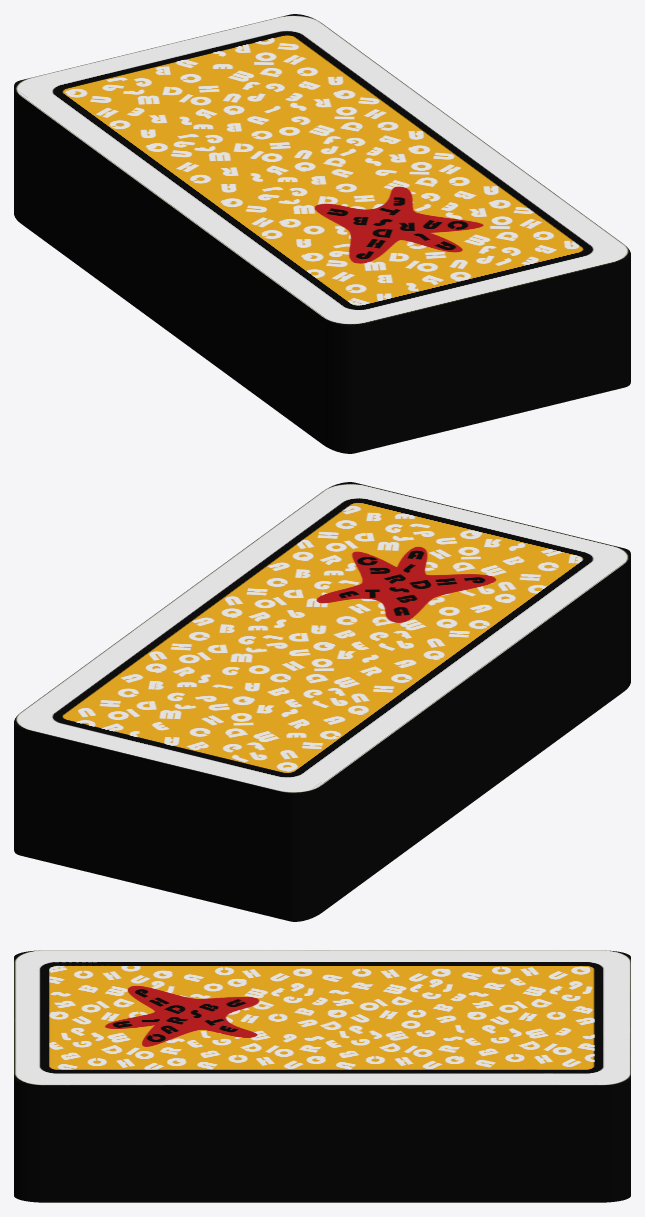
File: Carte.fbx
3 renders of one model, top to bottom at view 1: azimuth 30°, elevation 25°; view 2: azimuth 150°, elevation 25°; view 3: azimuth 270°, elevation 25°, orthographic. The views are drawn at different scales.
Visible parts, largest first — view 1: Cube; view 2: Cube; view 3: Cube.
Boxes of the visible parts, x1=… form: Cube: x1=14, y1=14, x2=630, y2=453; Cube: x1=14, y1=482, x2=630, y2=921; Cube: x1=14, y1=950, x2=630, y2=1202.
Size of the model in its own units: 249 by 101 by 481.
1 material, 1 textured.
